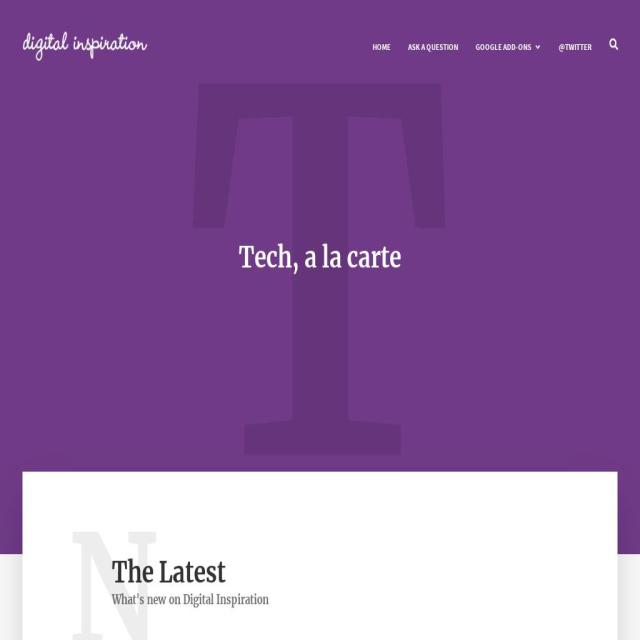button: (467, 28, 551, 64), (400, 28, 468, 62), (550, 28, 601, 62), (364, 28, 400, 62)
heading: (112, 591, 528, 608), (239, 240, 401, 276), (22, 31, 147, 61)
image: (609, 38, 619, 50), (534, 42, 542, 52)
text: (186, 0, 454, 578), (112, 555, 528, 591), (68, 500, 160, 640), (476, 40, 532, 52)
